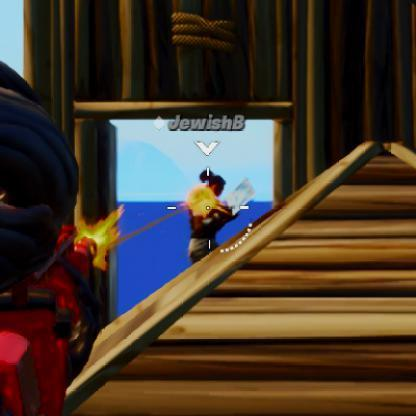person: (191, 168, 227, 263)
